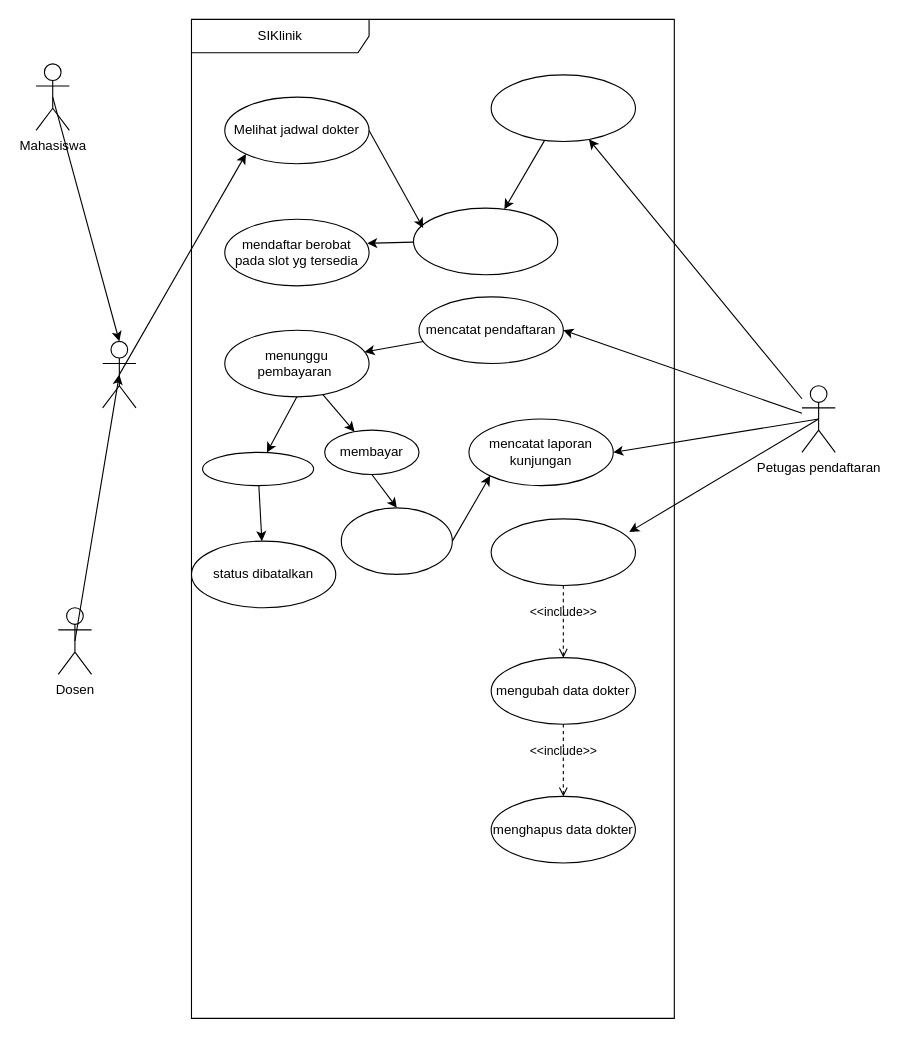
Image size: 899x1038. Some labels were removed from this diagram. Here are the shapes that lost their labels. From the top down, the centre of each, then its label:
At point 562,108: "memeriksa ketersediaan jadwal".
At point 485,241: "jadwal tersedia".
At point 119,374: "Pasien".
At point 257,468: "membatalkan".
At point 396,540: "status terdaftar".
At point 562,552: "menambah data dokter".
